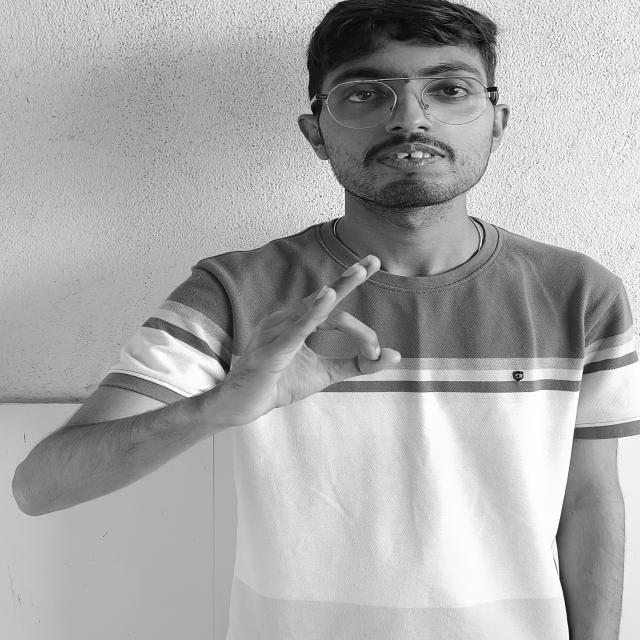Superb: (188, 254, 438, 436)
